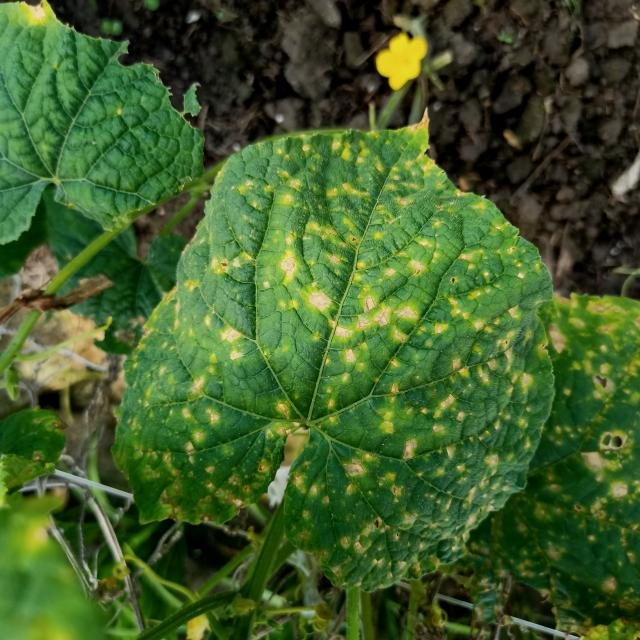disease_cucumber: (119, 132, 550, 591), (490, 291, 640, 629)
